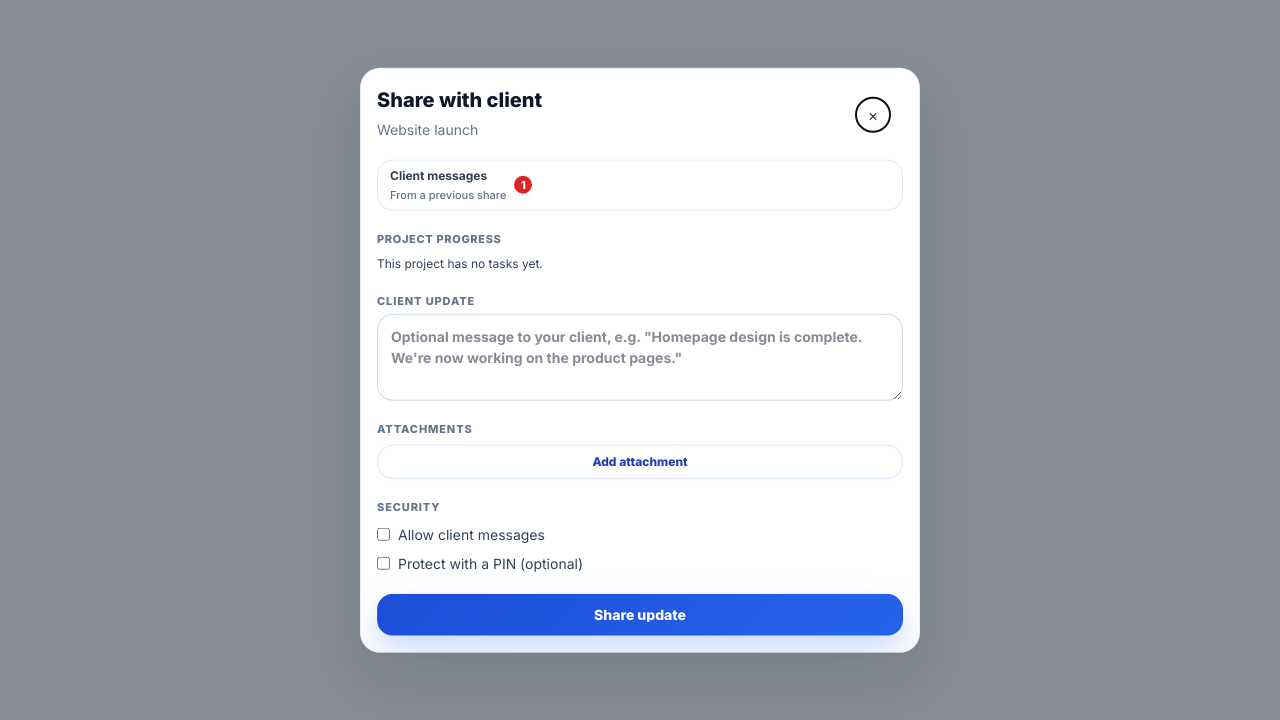
Test: ShareLinkPanel - PHASE 5F REAL PREVIEW DEFECT regression: Client messages remains reachable after revoke › 1-9. entry point remains reachable, resolves the revoked link id, and renders its retained history
Check: the text "From a previous share" is shown, box [390,187,506,203]
Click the button "Client messages From a previous share 1" at [439, 175], box [377,160,903,210]
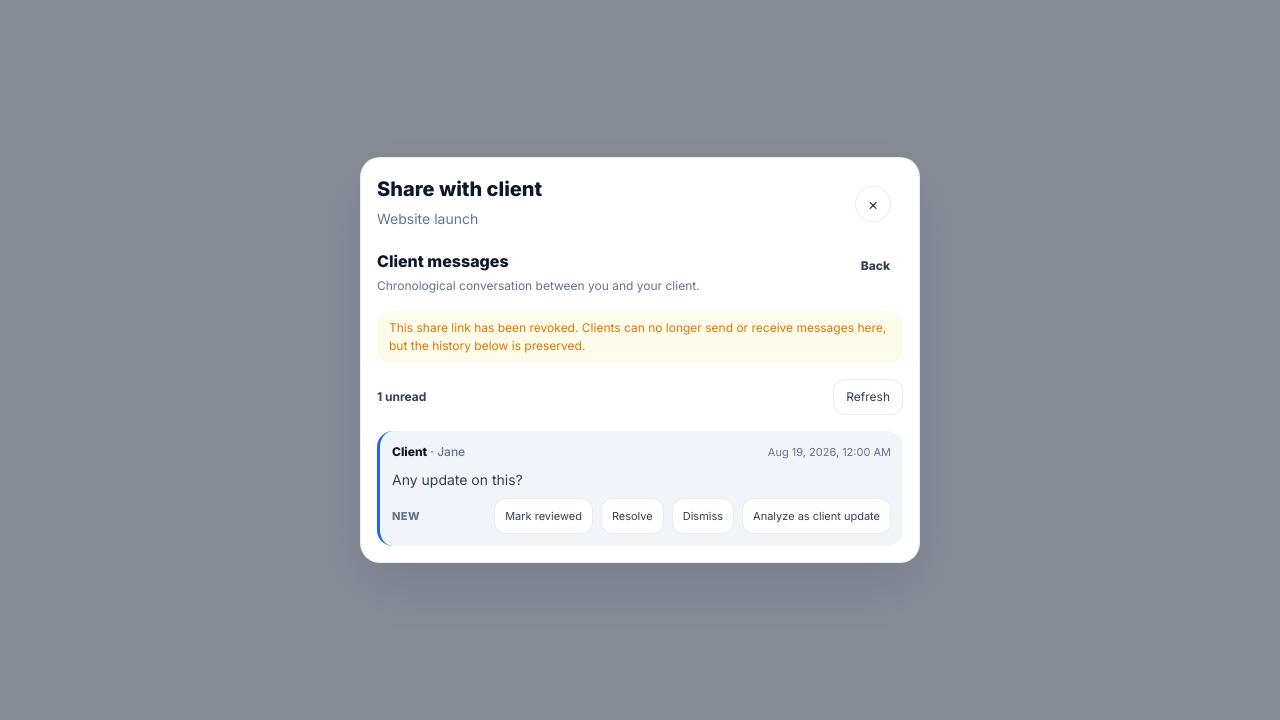
Check: the text "Any update on this?" is shown, box [392,471,523,488]
Check: the text "This share link has been revoked" is shown, box [389,320,886,353]
